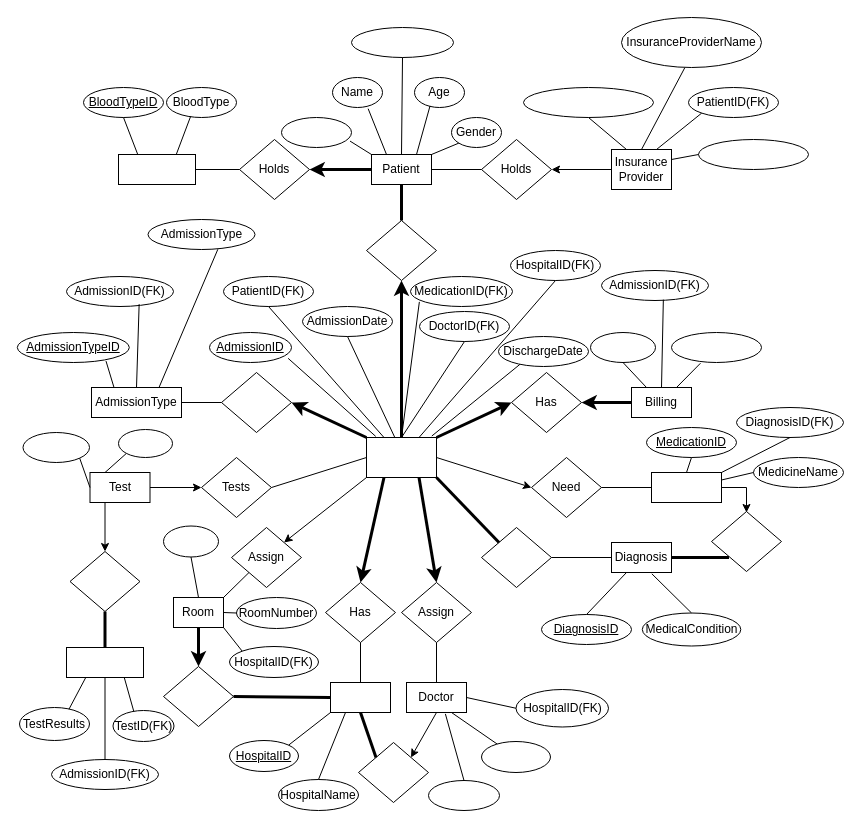
Some shapes in this 862 by 836 pixel diagram are drawn without their labels. The shapes that lost their labels are listed below. From the top down, each one's centre as x and y in pixels, then its label:
At [402,42]: "BloodTypeID(FK)".
At [588,102]: "InsuranceProviderID".
At [316,132]: "PatientID".
At [157,169]: "BloodGroup".
At [753,154]: "InsuranceNumber".
At [401,250]: "Admit".
At [623,347]: "BillingID".
At [716,347]: "BillingAmount".
At [256,402]: "Type".
At [56,447]: "TestName".
At [145,443]: "TestID".
At [401,457]: "Admission".
At [686,487]: "Medication".
At [190,541]: "RoomID".
At [516,557]: "DiagAdm".
At [746,541]: "Treats".
At [104,581]: "Results".
At [105,662]: "TestResult".
At [198,696]: "Contains".
At [360,697]: "Hospital".
At [393,772]: "Employs".
At [515,756]: "DoctorID".
At [464,795]: "DoctorName".
